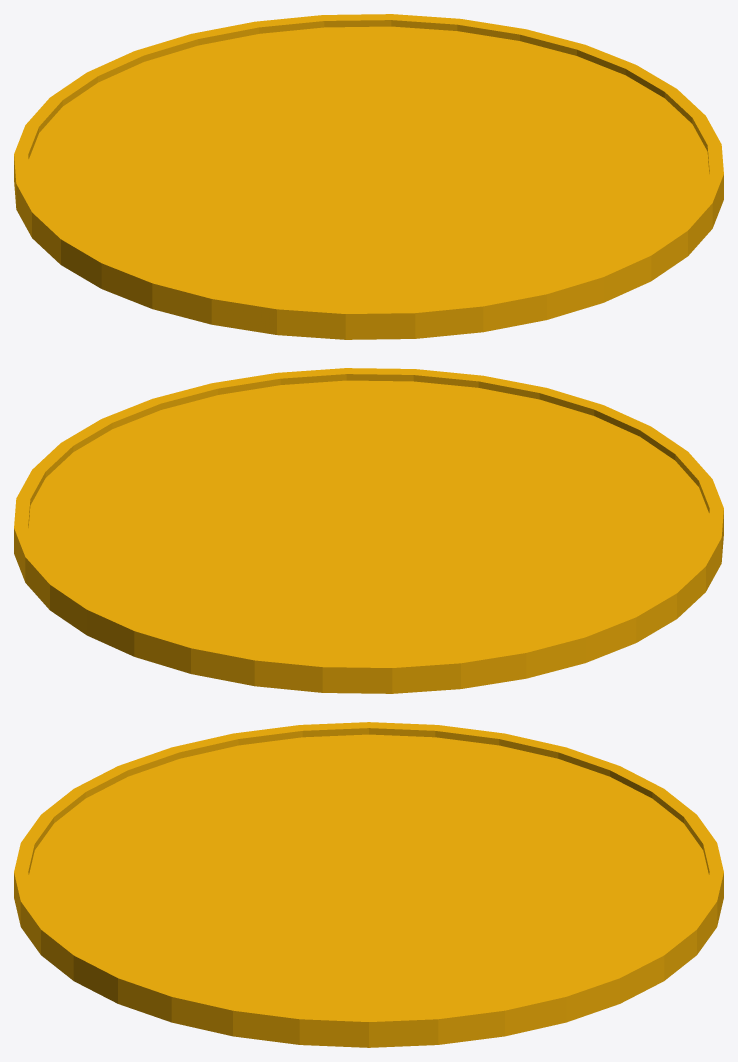
Rendered from Coin1.fbx.
3 renders of one model, top to bottom at view 1: azimuth 30°, elevation 25°; view 2: azimuth 150°, elevation 25°; view 3: azimuth 270°, elevation 25°, orthographic.
Visible parts, largest first — view 1: Coin; view 2: Coin; view 3: Coin.
Boxes of the visible parts, <box> form: Coin: <box>14,14,723,339</box>; Coin: <box>14,368,723,693</box>; Coin: <box>14,722,723,1047</box>.
Size of the model in its own units: 50 by 2 by 50.
